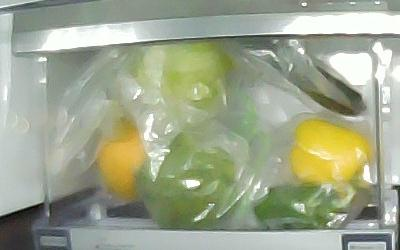broccoli_vinyl: (137, 132, 244, 230)
cucumber_vinyl: (233, 38, 367, 117)
grapefruit_vinyl: (95, 119, 147, 199)
lettuce_vinyl: (128, 40, 234, 118)
paprika_vinyl: (290, 119, 376, 186), (255, 185, 346, 229)
